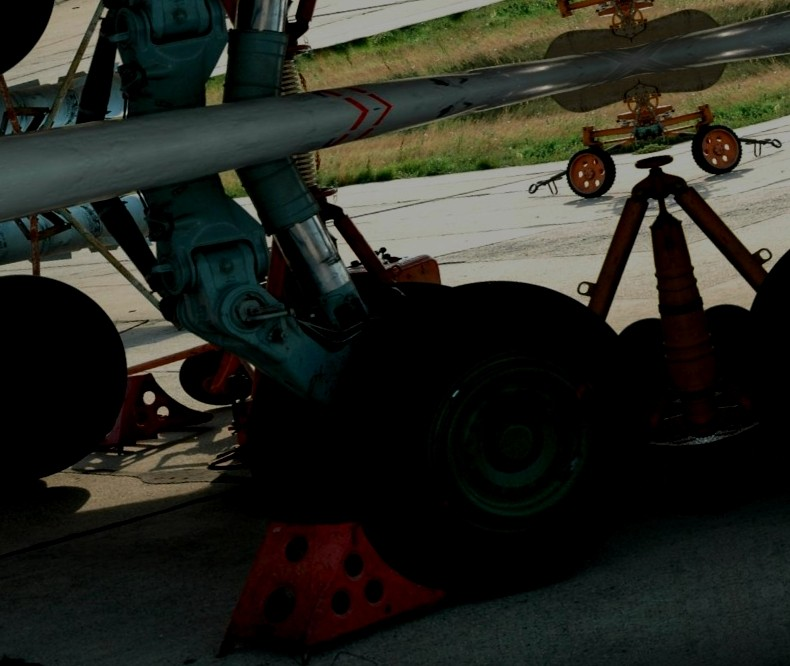chock: (192, 490, 459, 666)
wheel: (296, 253, 681, 622), (0, 252, 144, 493)
